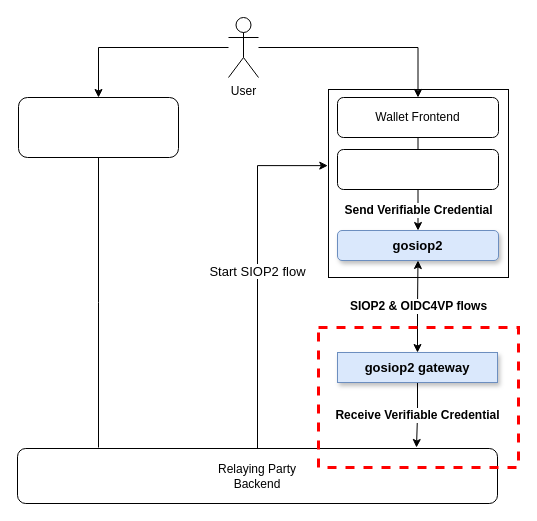
The diagram is 537 pixels wide and 521 high, and some of its shapes have lost their labels. The centre of each missing label's shape, as x and y in pixels:
Relaying Party Frontend Browser: [98,127]
Wallet Backend: [417,169]
